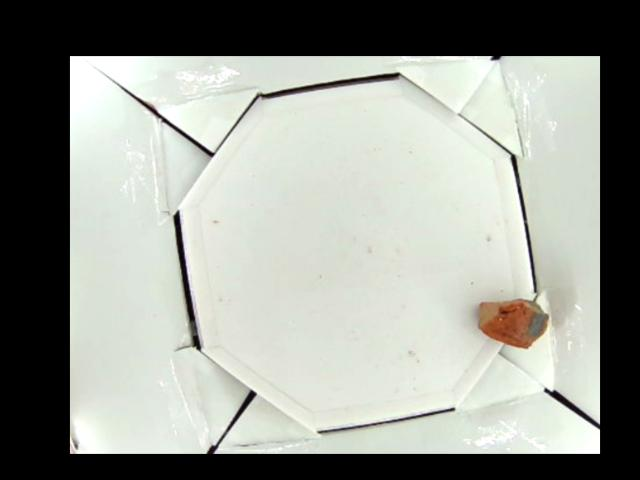Brisk: (477, 296, 551, 350)
